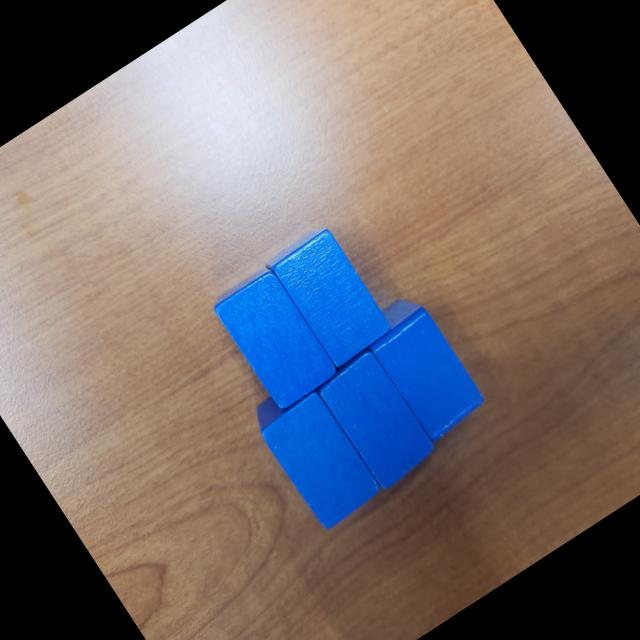blue: (245, 370, 388, 536), (354, 286, 492, 445), (261, 221, 396, 372), (207, 262, 341, 414), (310, 346, 441, 494)
